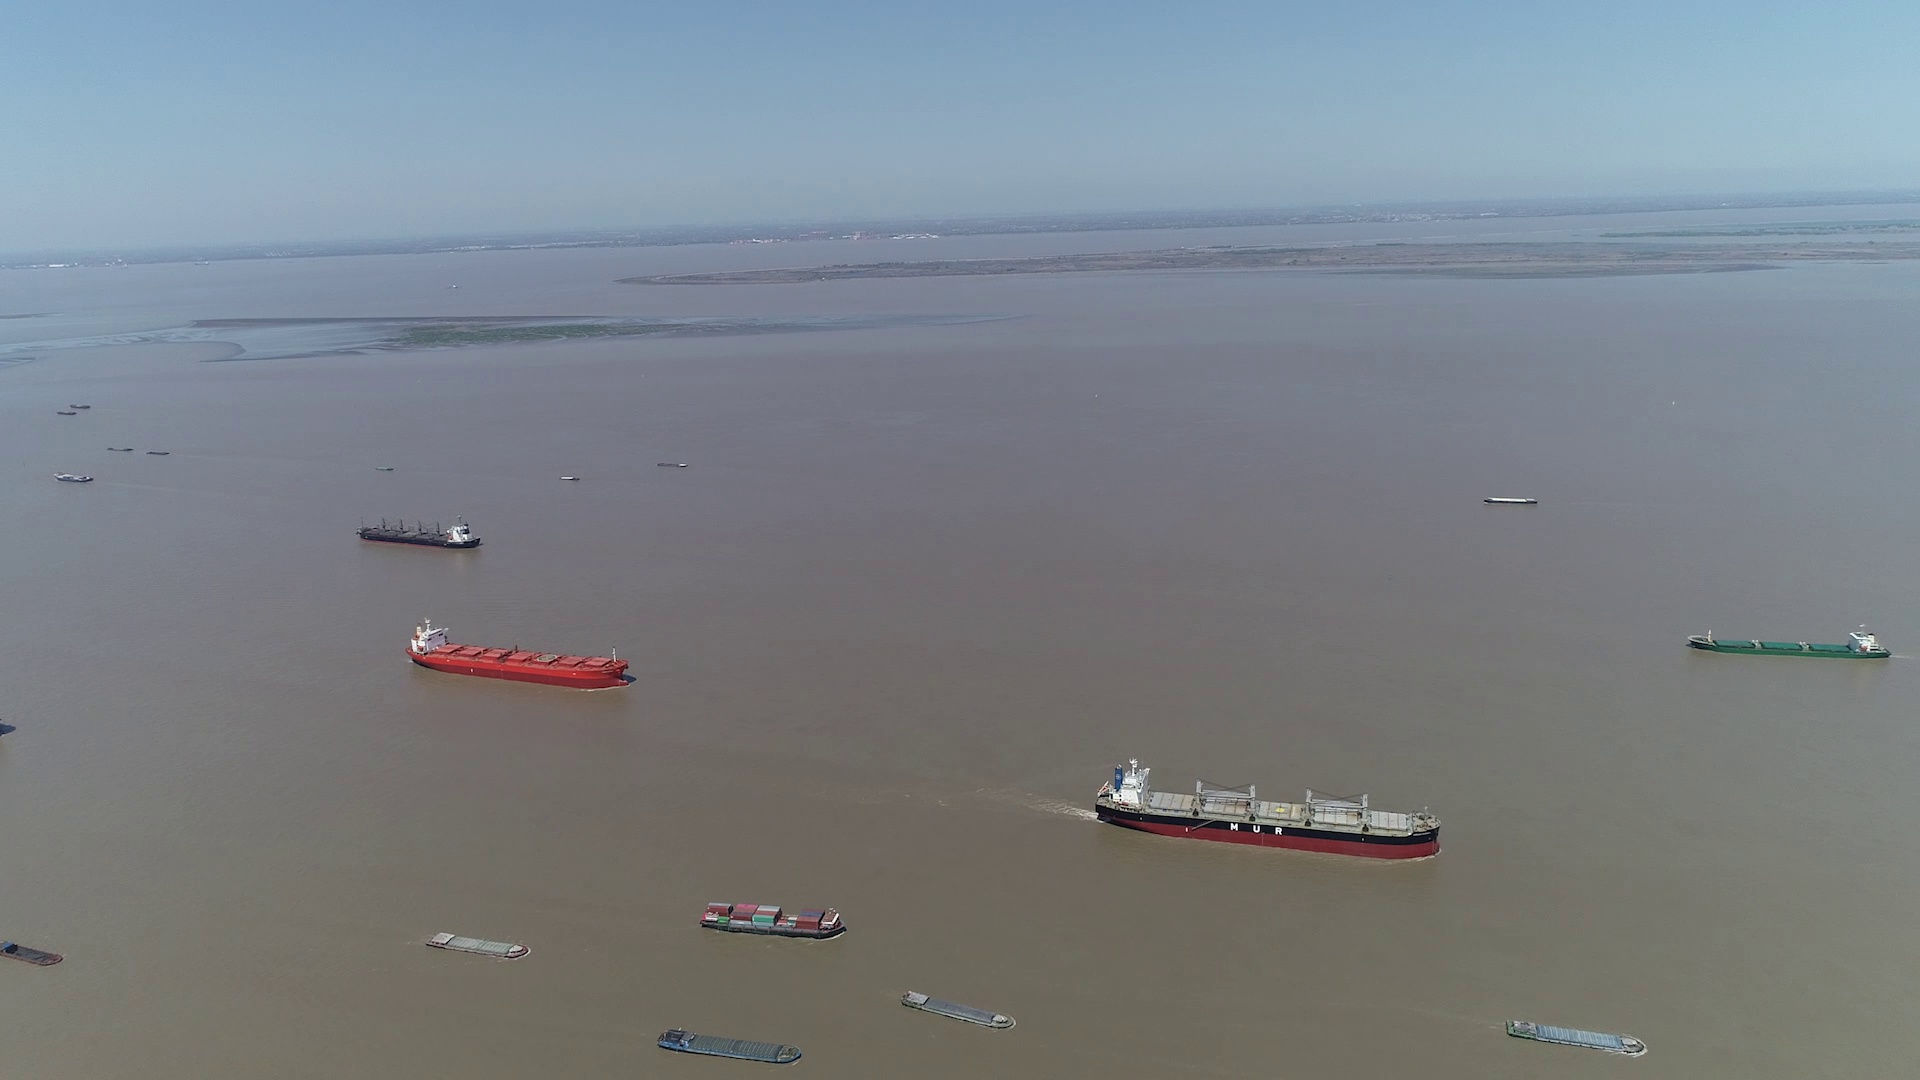ship: (1096, 760, 1440, 857), (407, 621, 629, 688), (1691, 628, 1890, 659), (657, 1029, 804, 1065), (1506, 1019, 1647, 1056), (702, 905, 847, 940), (902, 990, 1017, 1031), (357, 516, 483, 550), (427, 931, 531, 957), (0, 934, 62, 967), (1485, 496, 1538, 506), (54, 471, 94, 483)
